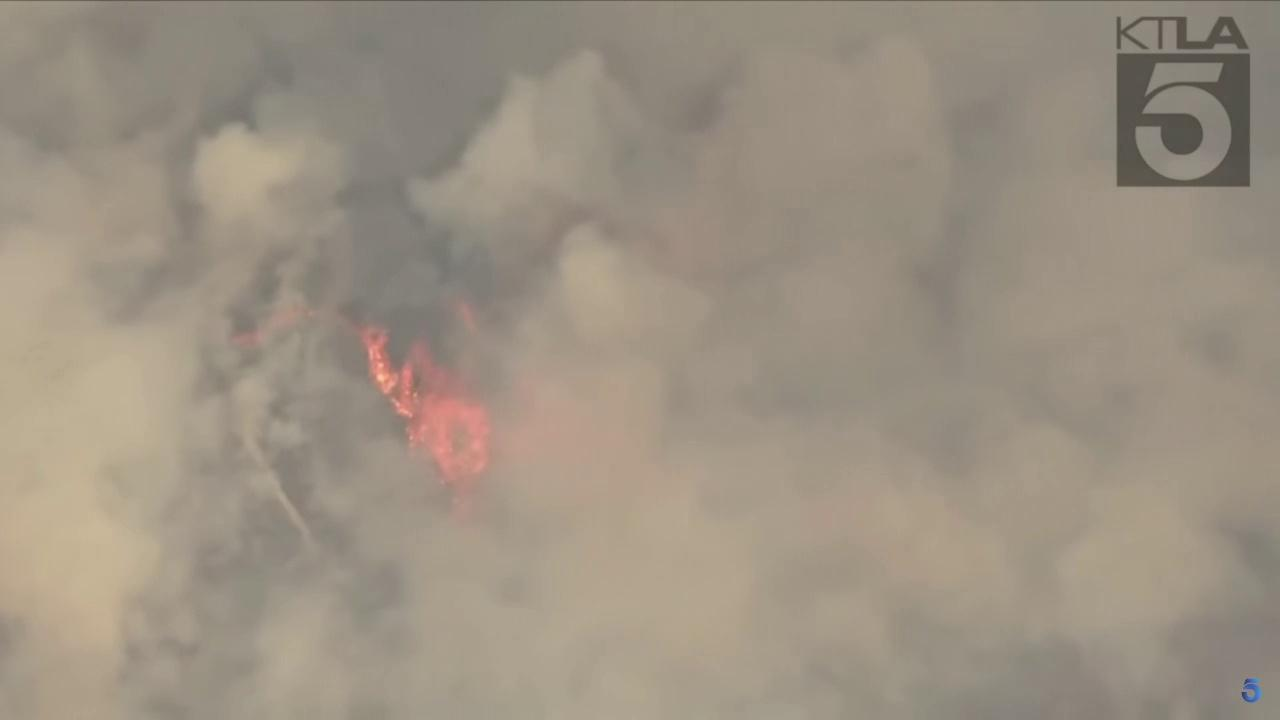fire: (351, 325, 494, 514), (230, 307, 316, 344), (455, 302, 478, 334)
smoke: (0, 0, 1280, 720)
